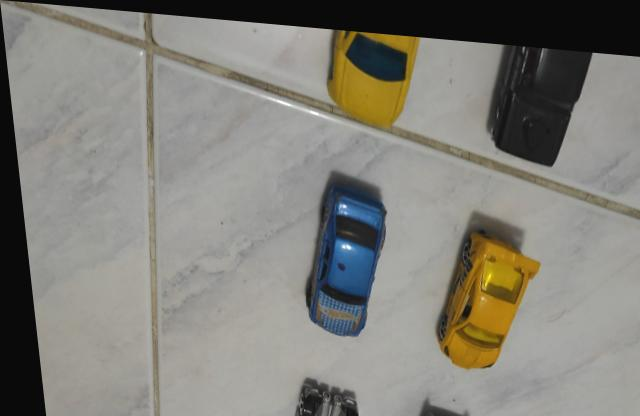01_FORD: (485, 35, 594, 156)
02_OZSOME: (325, 24, 421, 120)
03_V8: (402, 392, 463, 416)
04_MERZEDES: (298, 172, 383, 331)
05_DC121: (282, 371, 350, 416)
07_RHLTURBO: (428, 220, 537, 361)
